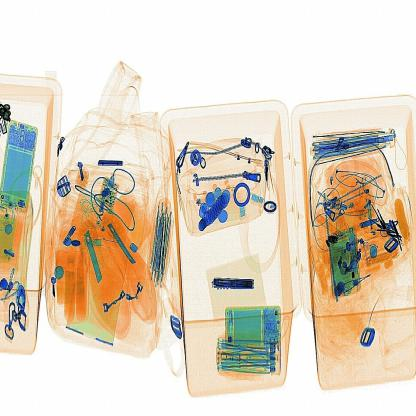scissors: (210, 274, 260, 295)
